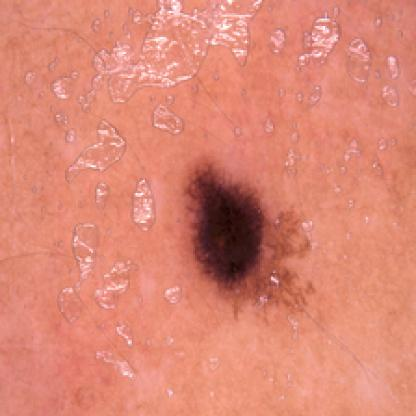benign: (171, 156, 314, 312)
